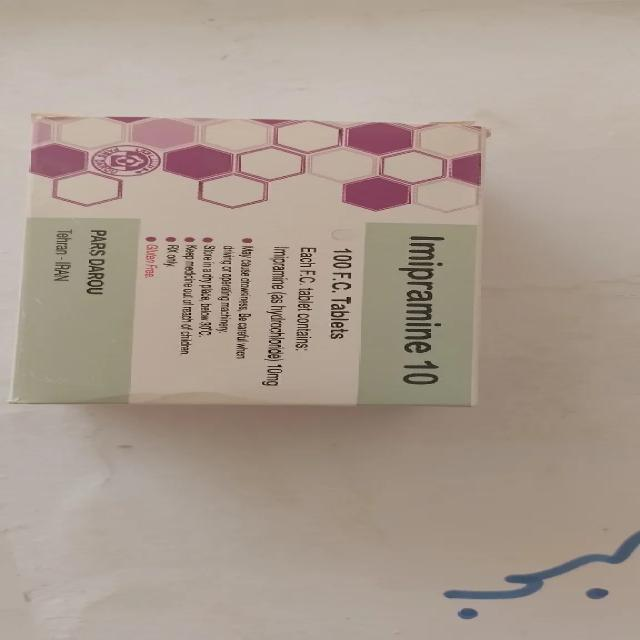drug-name: (396, 230, 448, 388)
